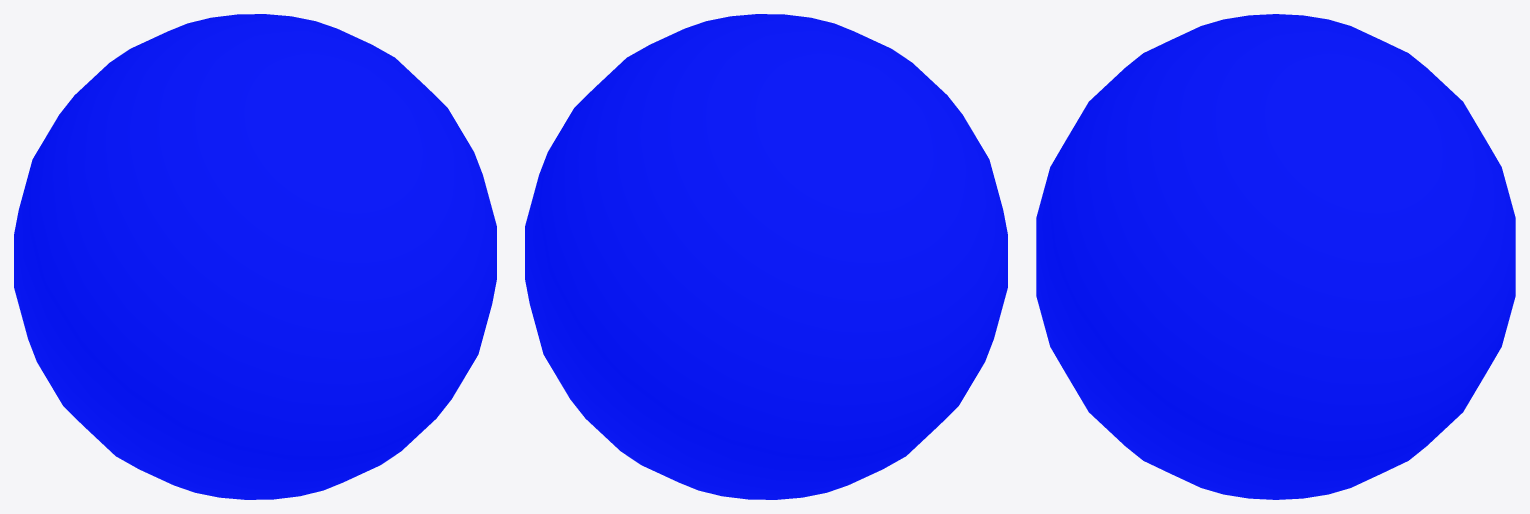
Rendered from Schirm.fbx.
3 views of the same model, side by side, from view 1: azimuth 30°, elevation 25°; view 2: azimuth 150°, elevation 25°; view 3: azimuth 270°, elevation 25° (orthographic).
Parts seen in each view (by area): view 1: Schirm; view 2: Schirm; view 3: Schirm.
Part boxes in pixels (<box>): Schirm: <box>14,14,496,499</box>; Schirm: <box>525,14,1007,499</box>; Schirm: <box>1036,14,1515,499</box>.
Size of the model in its own units: 29.78 by 30 by 29.56.
